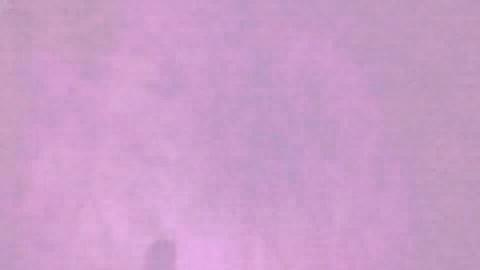tomato: (1, 139, 276, 268), (276, 131, 477, 268), (135, 79, 320, 135)
